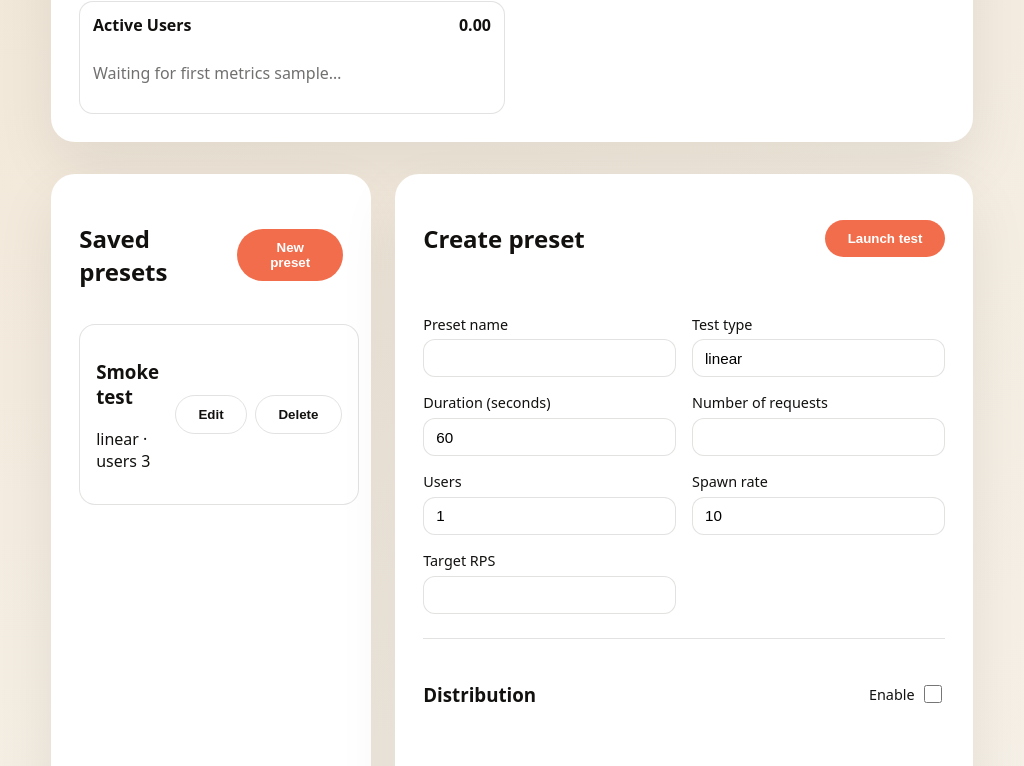
App › loads a preset into the editor when clicking its card
(page scrolled)
Click the heading "Smoke test" at {"x": 128, "y": 384}, box top-left (96, 359), bottom-right (159, 409)
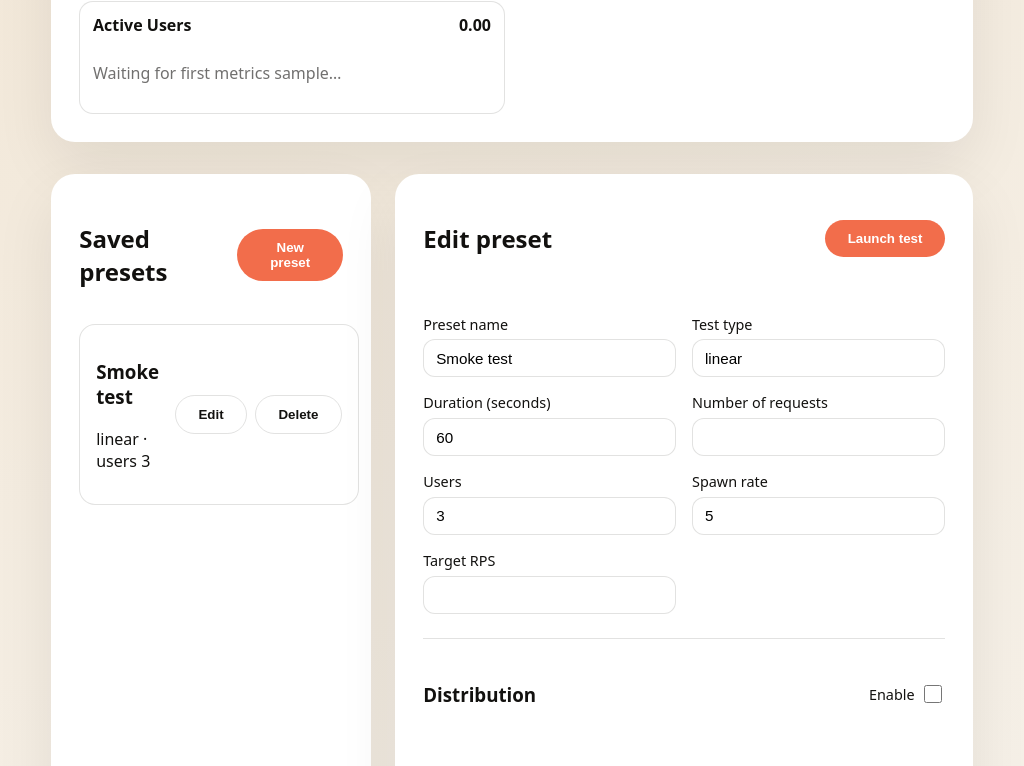
Result: the field labelled "Preset name" holds "Smoke test" at top-left (423, 339), bottom-right (676, 378)
Result: the number field labelled "Users" holds "3" at top-left (423, 497), bottom-right (676, 535)
